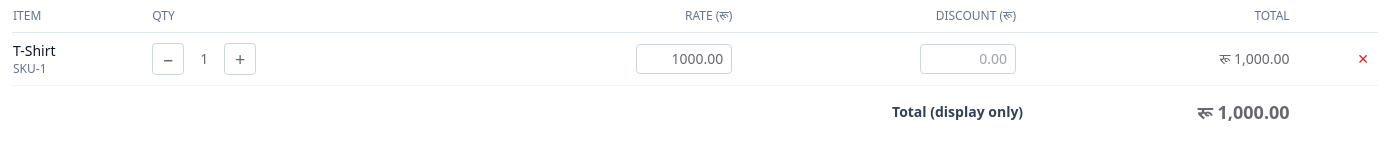
Scenario: CartTable › counts the discount as it is typed, so F9 cannot outrun it
Type "150" into the field named "Discount for T-Shirt" at (968, 59), box [920,44,1016,74]
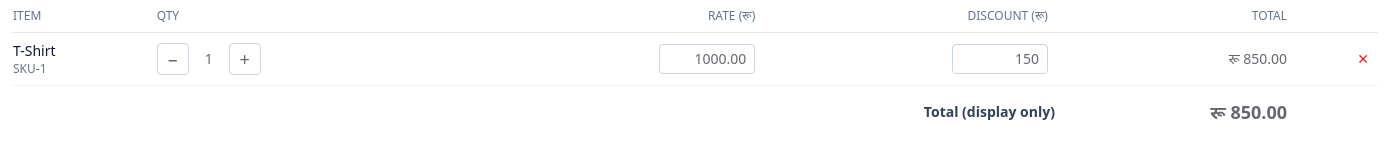
Expected: the text "रू 850.00" in the row of "T-Shirt" is shown, [1229,49,1287,68]
